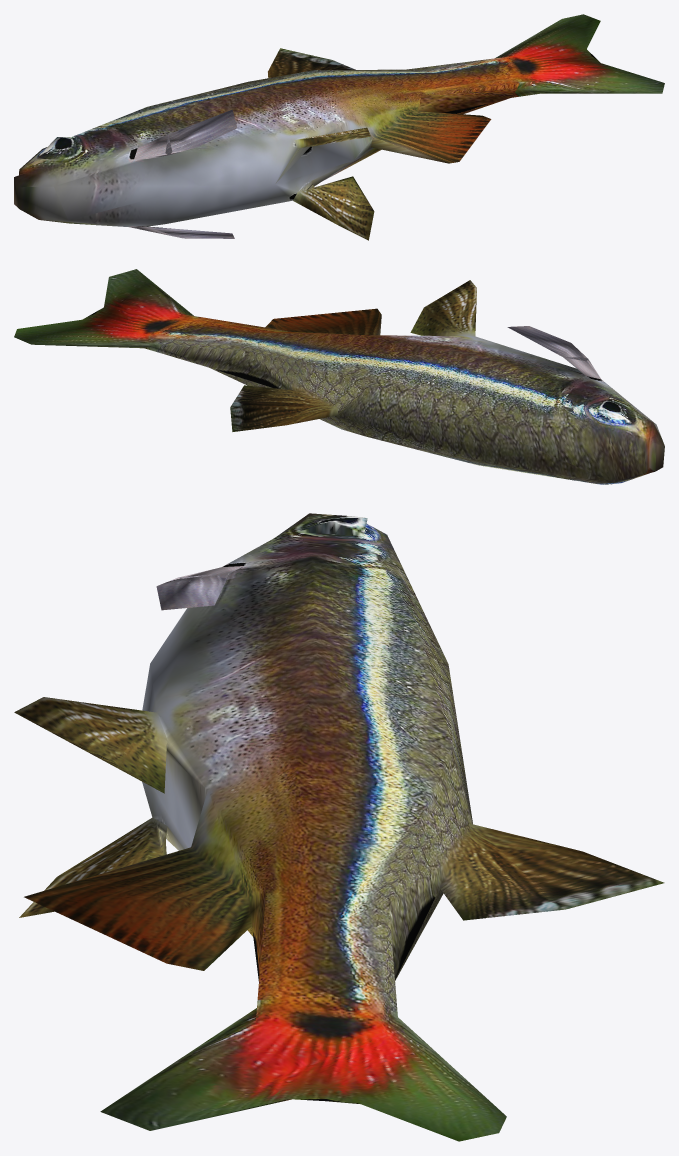
Rendered from Long-Fin.fbx.
3 renders of one model, top to bottom at view 1: azimuth 30°, elevation 25°; view 2: azimuth 150°, elevation 25°; view 3: azimuth 270°, elevation 25°, orthographic. The views are drawn at different scales.
Parts seen in each view (by area): view 1: 12993_Long_Fin_White_Cloud_v1_l3; view 2: 12993_Long_Fin_White_Cloud_v1_l3; view 3: 12993_Long_Fin_White_Cloud_v1_l3.
Part boxes in pixels (bbox=[...]): 12993_Long_Fin_White_Cloud_v1_l3: bbox=[14, 14, 664, 240]; 12993_Long_Fin_White_Cloud_v1_l3: bbox=[14, 269, 664, 484]; 12993_Long_Fin_White_Cloud_v1_l3: bbox=[14, 513, 664, 1141].
Size of the model in its own units: 527 by 101 by 244.
